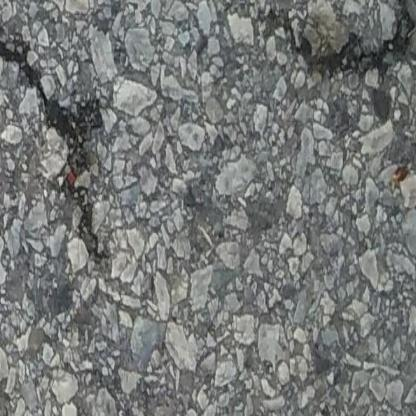Cracks: (0, 0, 120, 268), (275, 9, 416, 83)
